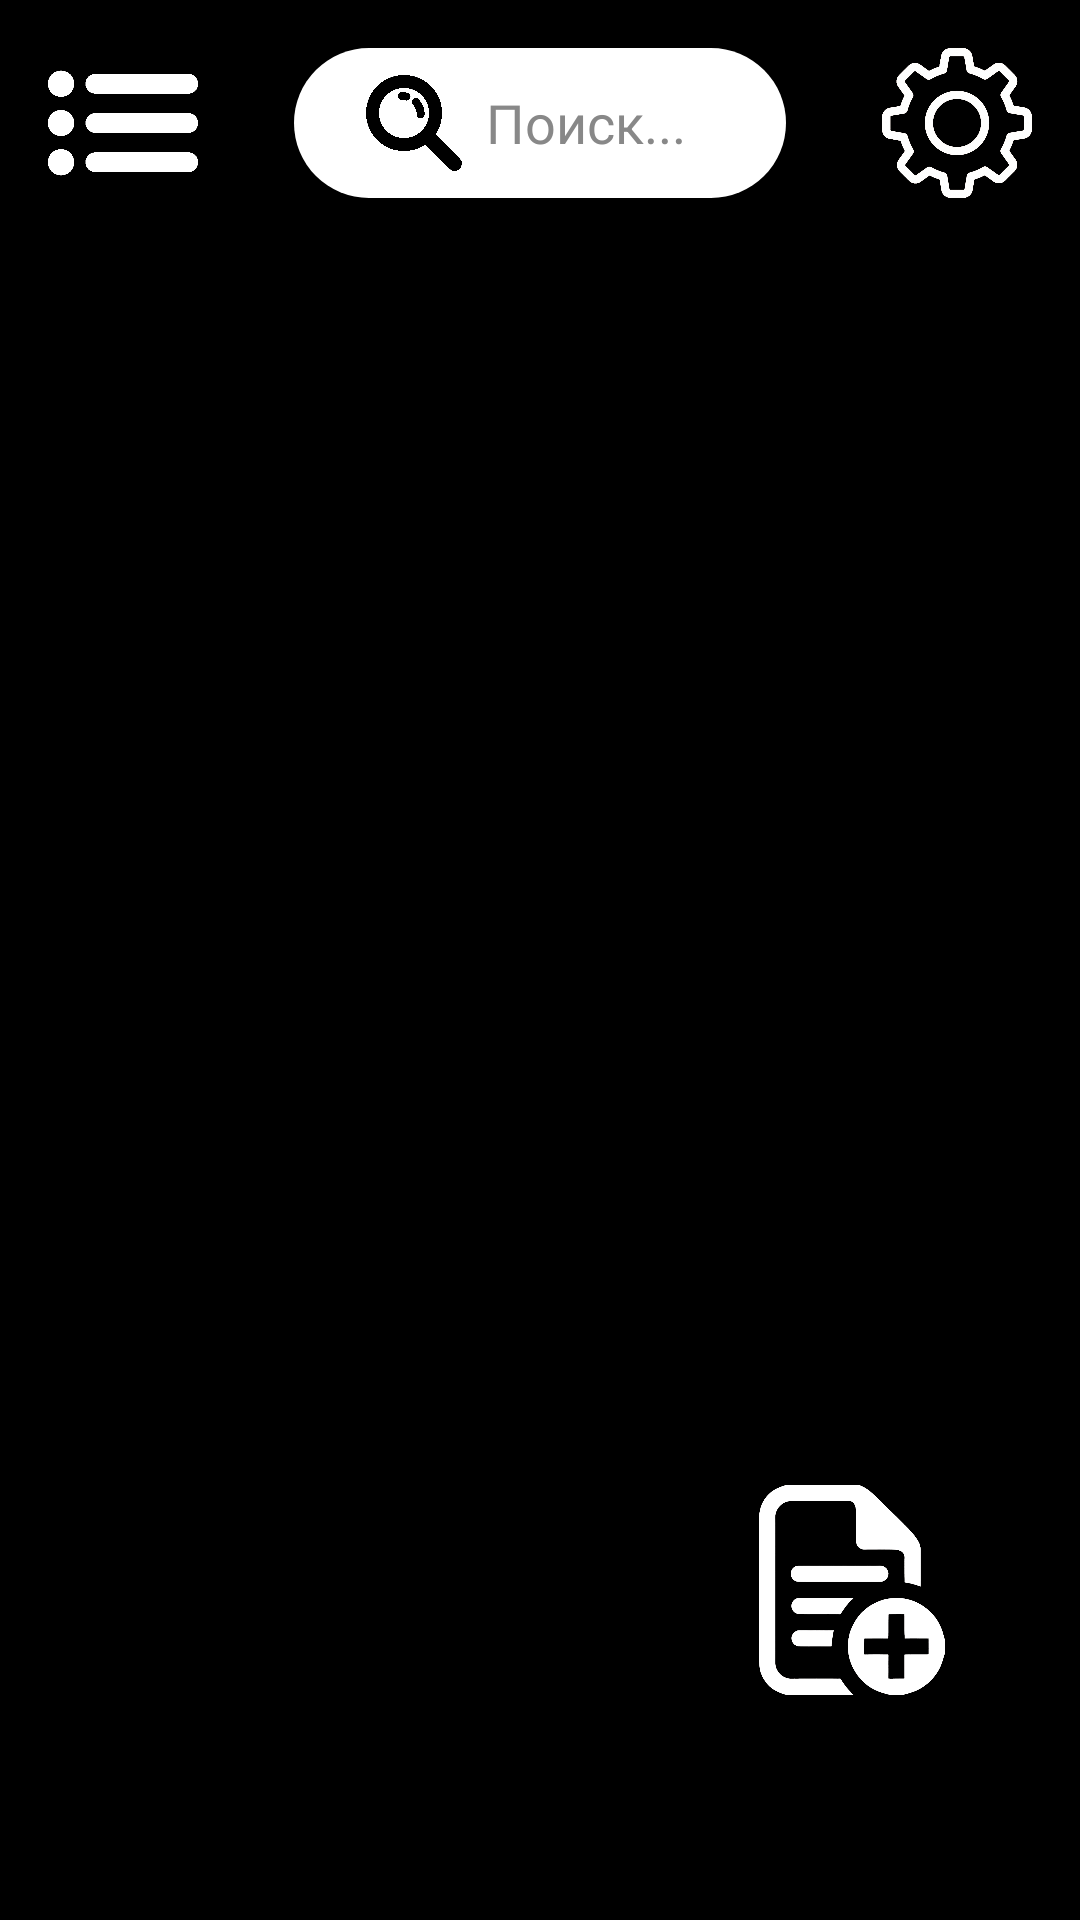

Screen size 1080 x 1920. Icon name, then its center in pixels as (x=x, y=y):
add: (x=852, y=1590)
food list: (x=123, y=123)
settings: (x=957, y=123)
